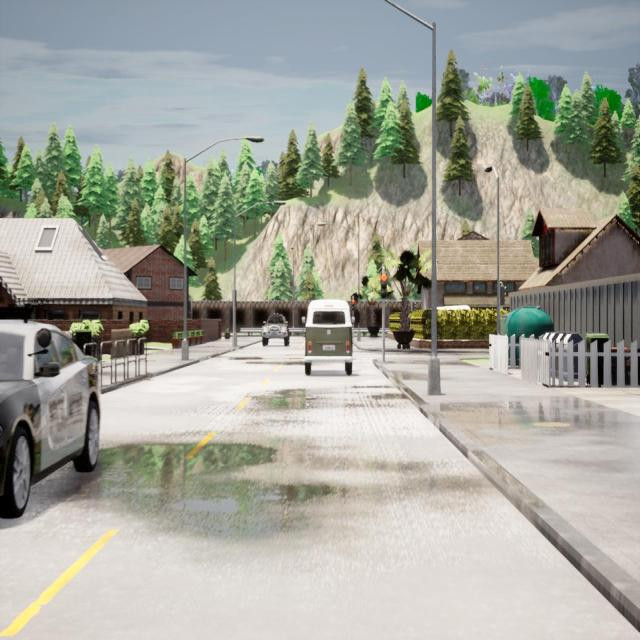Vehicle: (0, 320, 100, 517), (302, 298, 355, 376), (261, 313, 290, 347)
traffic_light: (380, 273, 388, 299), (500, 286, 506, 306), (352, 298, 355, 310)
